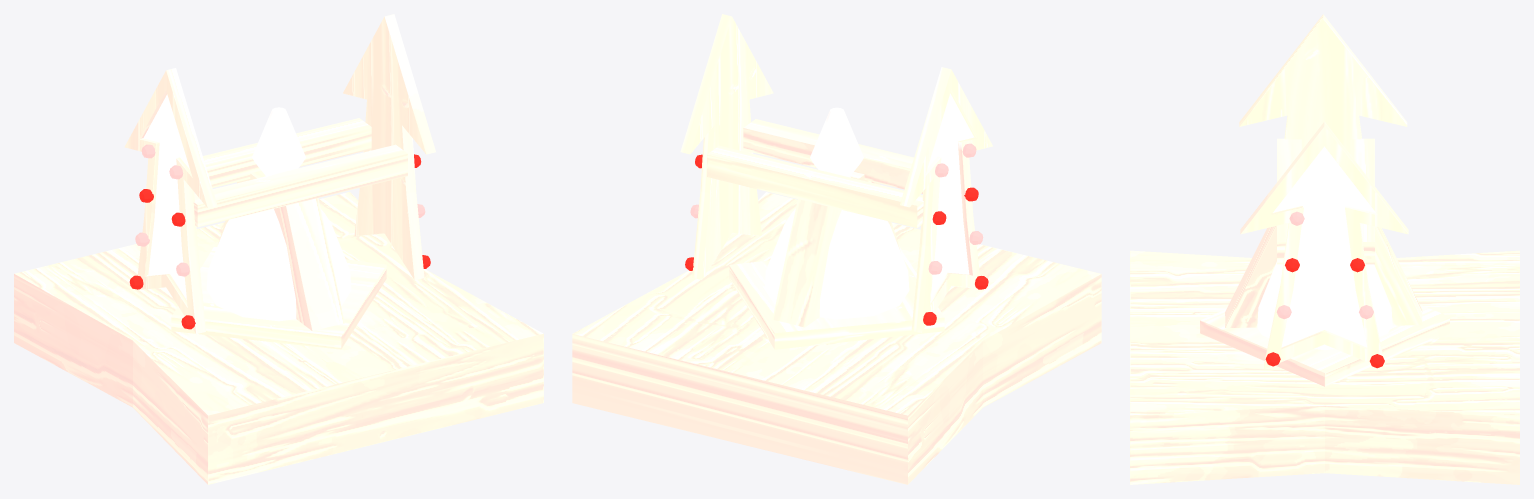
File: GameReadyLaserBase.glb
3 renders of one model, left to right at view 1: azimuth 30°, elevation 25°; view 2: azimuth 150°, elevation 25°; view 3: azimuth 270°, elevation 25°, orthographic.
Visible parts, largest first — view 1: Laserbase, Laserbase.013, Laserbase.004, Laserbase.001, Laserbase.023, Laserbase.002, Laserbase.021, Laserbase.024; view 2: Laserbase, Laserbase.013, Laserbase.004, Laserbase.001, Laserbase.024, Laserbase.002, Laserbase.022, Laserbase.023; view 3: Laserbase, Laserbase.004, Laserbase.013, Laserbase.002, Laserbase.021, Laserbase.022, Laserbase.001, Laserbase.024, Laserbase.023.
Boxes of the visible parts, box(x1,y1,x2,y2) form: Laserbase: box(14, 192, 543, 484); Laserbase.013: box(124, 68, 217, 334); Laserbase.004: box(343, 14, 435, 280); Laserbase.001: box(206, 107, 351, 321); Laserbase.023: box(193, 144, 407, 227); Laserbase.002: box(171, 242, 386, 349); Laserbase.021: box(274, 198, 344, 331); Laserbase.024: box(203, 118, 371, 187); Laserbase: box(572, 192, 1101, 484); Laserbase.013: box(900, 67, 992, 332); Laserbase.004: box(680, 14, 773, 279); Laserbase.001: box(764, 107, 909, 319); Laserbase.024: box(707, 145, 923, 227); Laserbase.002: box(729, 246, 944, 349); Laserbase.022: box(772, 199, 841, 327); Laserbase.023: box(743, 119, 922, 193); Laserbase: box(1130, 250, 1519, 484); Laserbase.004: box(1240, 121, 1408, 369); Laserbase.013: box(1239, 14, 1407, 153); Laserbase.002: box(1200, 305, 1449, 386); Laserbase.021: box(1225, 226, 1276, 327); Laserbase.022: box(1374, 226, 1422, 325); Laserbase.001: box(1257, 262, 1392, 350); Laserbase.024: box(1350, 138, 1374, 264); Laserbase.023: box(1277, 138, 1301, 264).
Size of the model in its own units: 3.42 by 3.31 by 3.42.
Materials: 2 (2 with a texture image).
